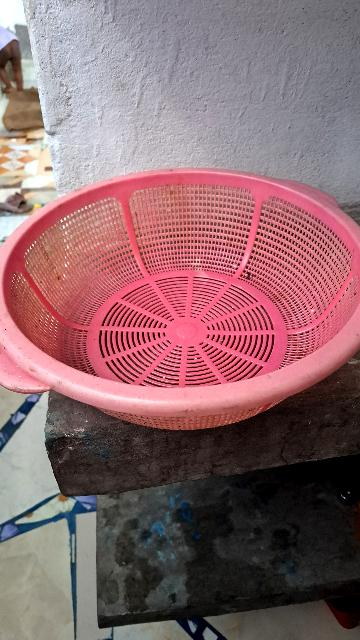hardplastic: (7, 167, 360, 425)
